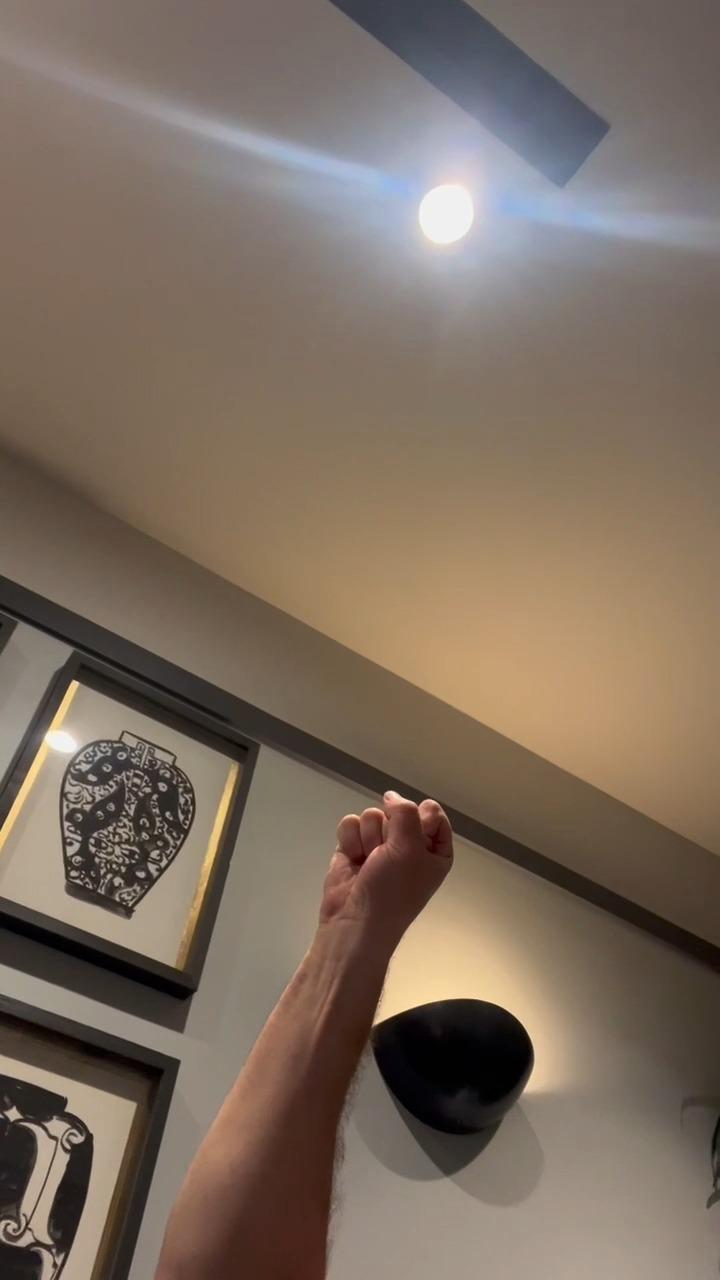Rock: (322, 788, 454, 927)
